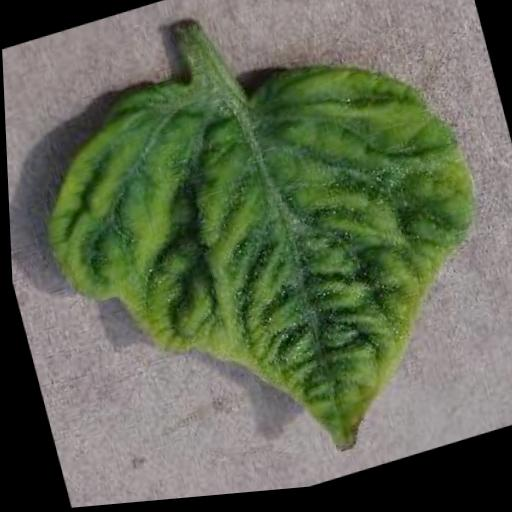Yellow Leaf Curl Virus: (10, 1, 512, 511)
